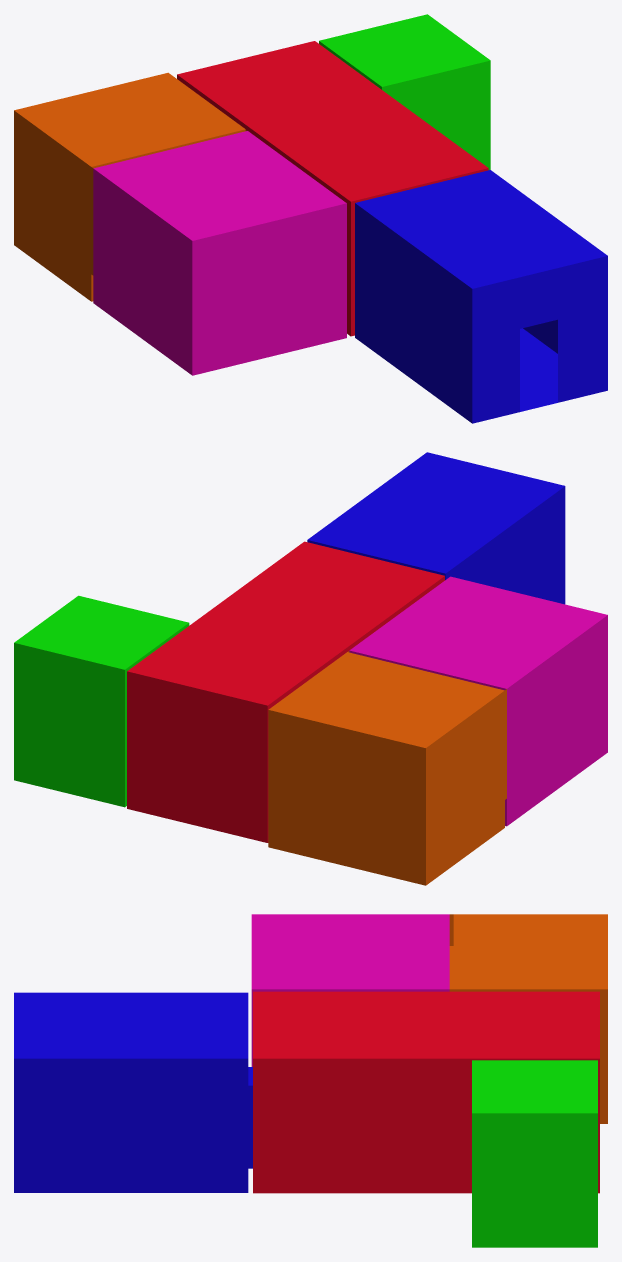
The model's file is psihushka.fbx.
The picture shows the model from 3 angles, top to bottom: view 1: azimuth 30°, elevation 25°; view 2: azimuth 150°, elevation 25°; view 3: azimuth 270°, elevation 25°; orthographic projection. The views are drawn at different scales.
Parts seen in each view (by area): view 1: Plane; view 2: Plane; view 3: Plane.
Part boxes in pixels (x1=…): Plane: x1=14, y1=14, x2=607, y2=423; Plane: x1=14, y1=452, x2=607, y2=885; Plane: x1=14, y1=914, x2=607, y2=1247.
Size of the model in its own units: 1205 by 380 by 1520.
